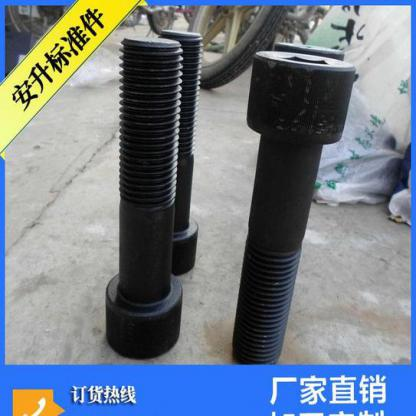FOD: (229, 48, 357, 369), (100, 33, 187, 361), (145, 25, 202, 274)
